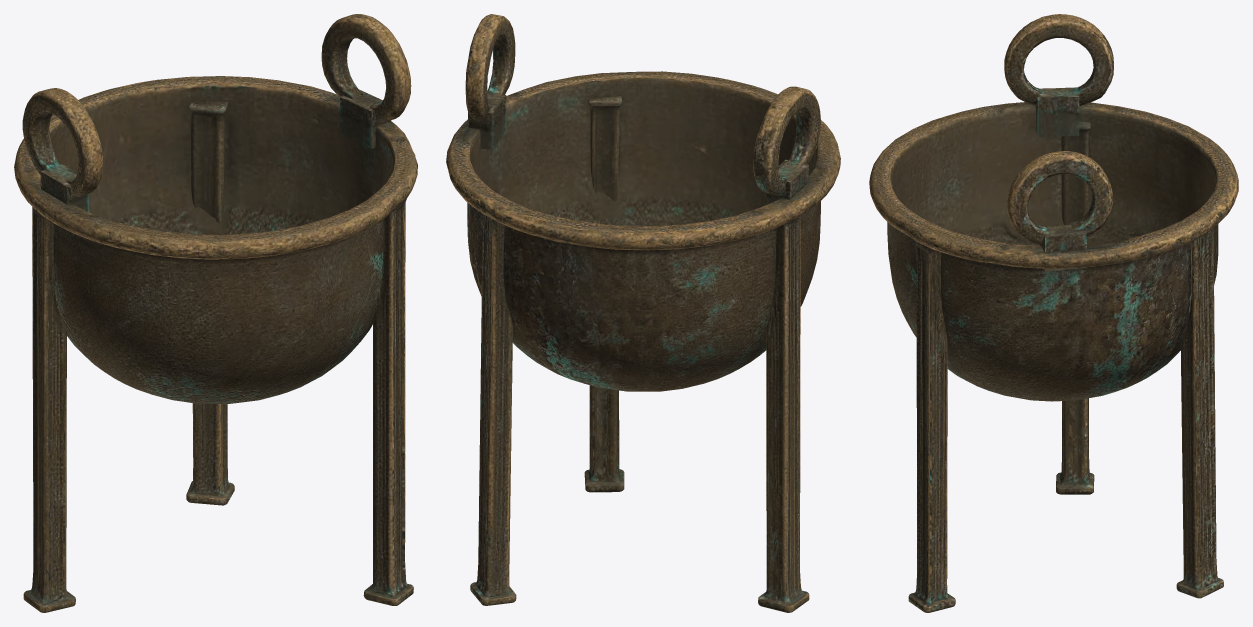
File: tripod.glb
The picture shows the model from 3 angles, left to right: view 1: azimuth 30°, elevation 25°; view 2: azimuth 150°, elevation 25°; view 3: azimuth 270°, elevation 25°; orthographic projection. The views are drawn at different scales.
Visible parts, largest first — view 1: tripod; view 2: tripod; view 3: tripod.
Part boxes in pixels (x1=…): tripod: x1=14, y1=14, x2=417, y2=612; tripod: x1=446, y1=14, x2=840, y2=612; tripod: x1=869, y1=14, x2=1238, y2=612.
Bounding box in the file's own units: 1.06 × 1.5 × 1.07.
1 material, 1 textured.
